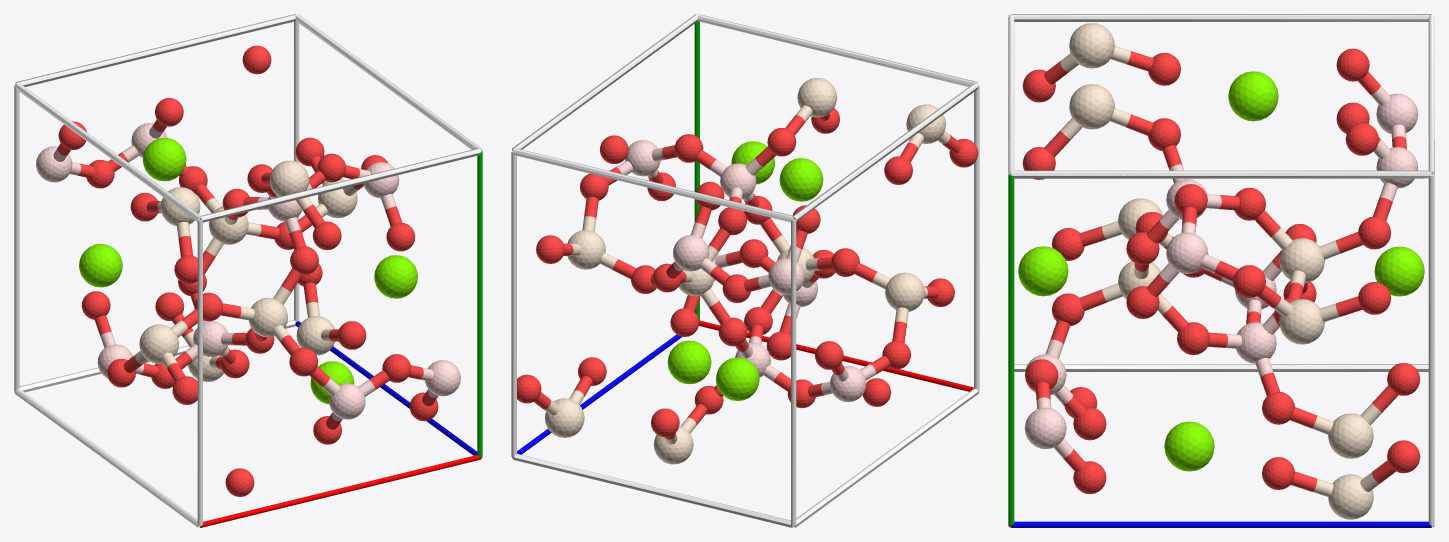
3 views of the same model, side by side, from view 1: azimuth 30°, elevation 25°; view 2: azimuth 150°, elevation 25°; view 3: azimuth 270°, elevation 25° (orthographic). The views are drawn at different scales.
Visible parts, largest first — view 1: Shape_IndexedFaceSet.190, Shape_IndexedFaceSet.200, Shape_IndexedFaceSet.201, Shape_IndexedFaceSet.002, Shape_IndexedFaceSet.003, Shape_IndexedFaceSet.001, Shape_IndexedFaceSet.008, Shape_IndexedFaceSet.010, Shape_IndexedFaceSet.005, Shape_IndexedFaceSet.011, Shape_IndexedFaceSet.019, Shape_IndexedFaceSet.014 (+30 smaller); view 2: Shape_IndexedFaceSet.190, Shape_IndexedFaceSet.001, Shape_IndexedFaceSet, Shape_IndexedFaceSet.003, Shape_IndexedFaceSet.008, Shape_IndexedFaceSet.010, Shape_IndexedFaceSet.011, Shape_IndexedFaceSet.004, Shape_IndexedFaceSet.013, Shape_IndexedFaceSet.201, Shape_IndexedFaceSet.200, Shape_IndexedFaceSet.006 (+33 smaller); view 3: Shape_IndexedFaceSet.190, Shape_IndexedFaceSet.199, Shape_IndexedFaceSet.200, Shape_IndexedFaceSet, Shape_IndexedFaceSet.002, Shape_IndexedFaceSet.001, Shape_IndexedFaceSet.003, Shape_IndexedFaceSet.007, Shape_IndexedFaceSet.010, Shape_IndexedFaceSet.006, Shape_IndexedFaceSet.004, Shape_IndexedFaceSet.011 (+34 smaller).
Boxes of the visible parts, x1,y1,x2,y2 form: Shape_IndexedFaceSet.190: [14, 14, 481, 527]; Shape_IndexedFaceSet.200: [477, 151, 482, 457]; Shape_IndexedFaceSet.201: [200, 455, 481, 527]; Shape_IndexedFaceSet.002: [374, 255, 417, 298]; Shape_IndexedFaceSet.003: [79, 244, 122, 287]; Shape_IndexedFaceSet.001: [142, 137, 186, 181]; Shape_IndexedFaceSet.008: [139, 324, 179, 363]; Shape_IndexedFaceSet.010: [269, 160, 309, 196]; Shape_IndexedFaceSet.005: [248, 297, 287, 337]; Shape_IndexedFaceSet.011: [296, 316, 334, 355]; Shape_IndexedFaceSet.019: [329, 383, 365, 419]; Shape_IndexedFaceSet.014: [425, 360, 460, 396]; Shape_IndexedFaceSet.190: [511, 14, 979, 527]; Shape_IndexedFaceSet.001: [779, 158, 823, 201]; Shape_IndexedFaceSet: [667, 340, 711, 384]; Shape_IndexedFaceSet.003: [716, 357, 759, 400]; Shape_IndexedFaceSet.008: [885, 272, 924, 311]; Shape_IndexedFaceSet.010: [797, 78, 837, 117]; Shape_IndexedFaceSet.011: [544, 398, 584, 437]; Shape_IndexedFaceSet.004: [567, 230, 605, 269]; Shape_IndexedFaceSet.013: [673, 235, 709, 271]; Shape_IndexedFaceSet.201: [698, 320, 973, 391]; Shape_IndexedFaceSet.200: [694, 21, 699, 320]; Shape_IndexedFaceSet.006: [653, 426, 693, 464]; Shape_IndexedFaceSet.190: [1008, 14, 1434, 527]; Shape_IndexedFaceSet.199: [1011, 521, 1431, 527]; Shape_IndexedFaceSet.200: [1008, 174, 1014, 525]; Shape_IndexedFaceSet: [1164, 421, 1214, 471]; Shape_IndexedFaceSet.002: [1018, 246, 1068, 296]; Shape_IndexedFaceSet.001: [1228, 71, 1278, 121]; Shape_IndexedFaceSet.003: [1374, 246, 1424, 296]; Shape_IndexedFaceSet.007: [1069, 23, 1114, 68]; Shape_IndexedFaceSet.010: [1069, 84, 1114, 129]; Shape_IndexedFaceSet.006: [1328, 413, 1373, 458]; Shape_IndexedFaceSet.004: [1279, 299, 1324, 344]; Shape_IndexedFaceSet.011: [1328, 474, 1373, 519].
Size of the model in its own units: 18.18 by 18.61 by 19.31.
